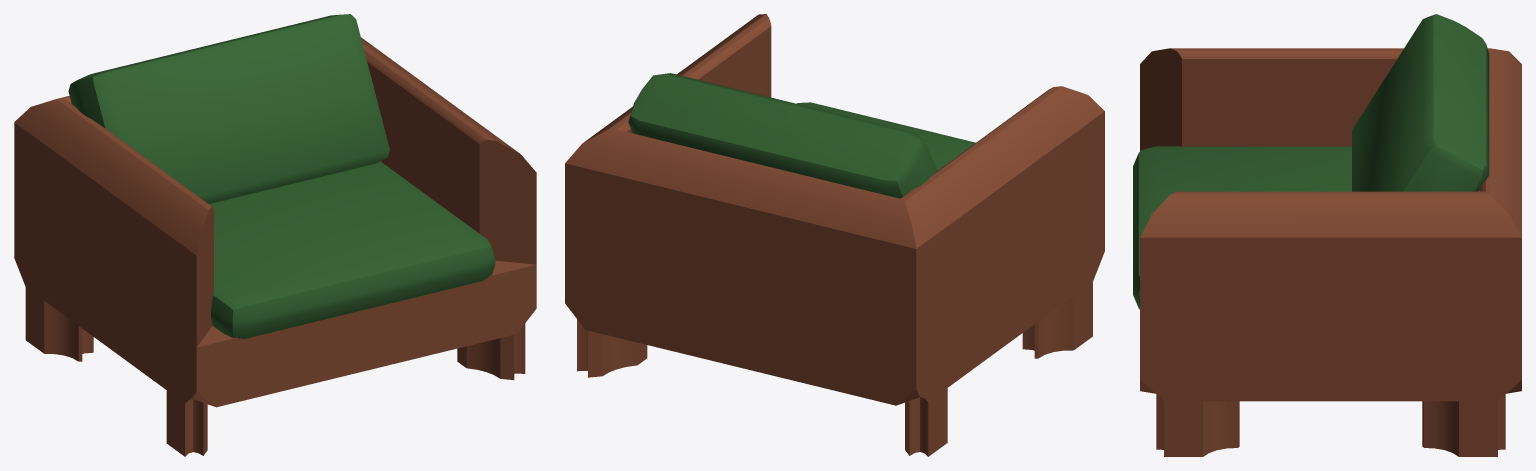
File: Arm Chair.fbx
3 views of the same model, side by side, from view 1: azimuth 30°, elevation 25°; view 2: azimuth 150°, elevation 25°; view 3: azimuth 270°, elevation 25° (orthographic). The views are drawn at different scales.
Parts seen in each view (by area): view 1: Box053, Box054; view 2: Box053, Box054; view 3: Box053, Box054.
Part boxes in pixels (bbox=[...]): Box053: bbox=[14, 37, 536, 456]; Box054: bbox=[68, 14, 495, 338]; Box053: bbox=[565, 14, 1104, 456]; Box054: bbox=[628, 73, 975, 198]; Box053: bbox=[1140, 48, 1521, 456]; Box054: bbox=[1133, 14, 1489, 309].
Bounding box in the file's own units: 61.78 × 48.3 × 58.44.
